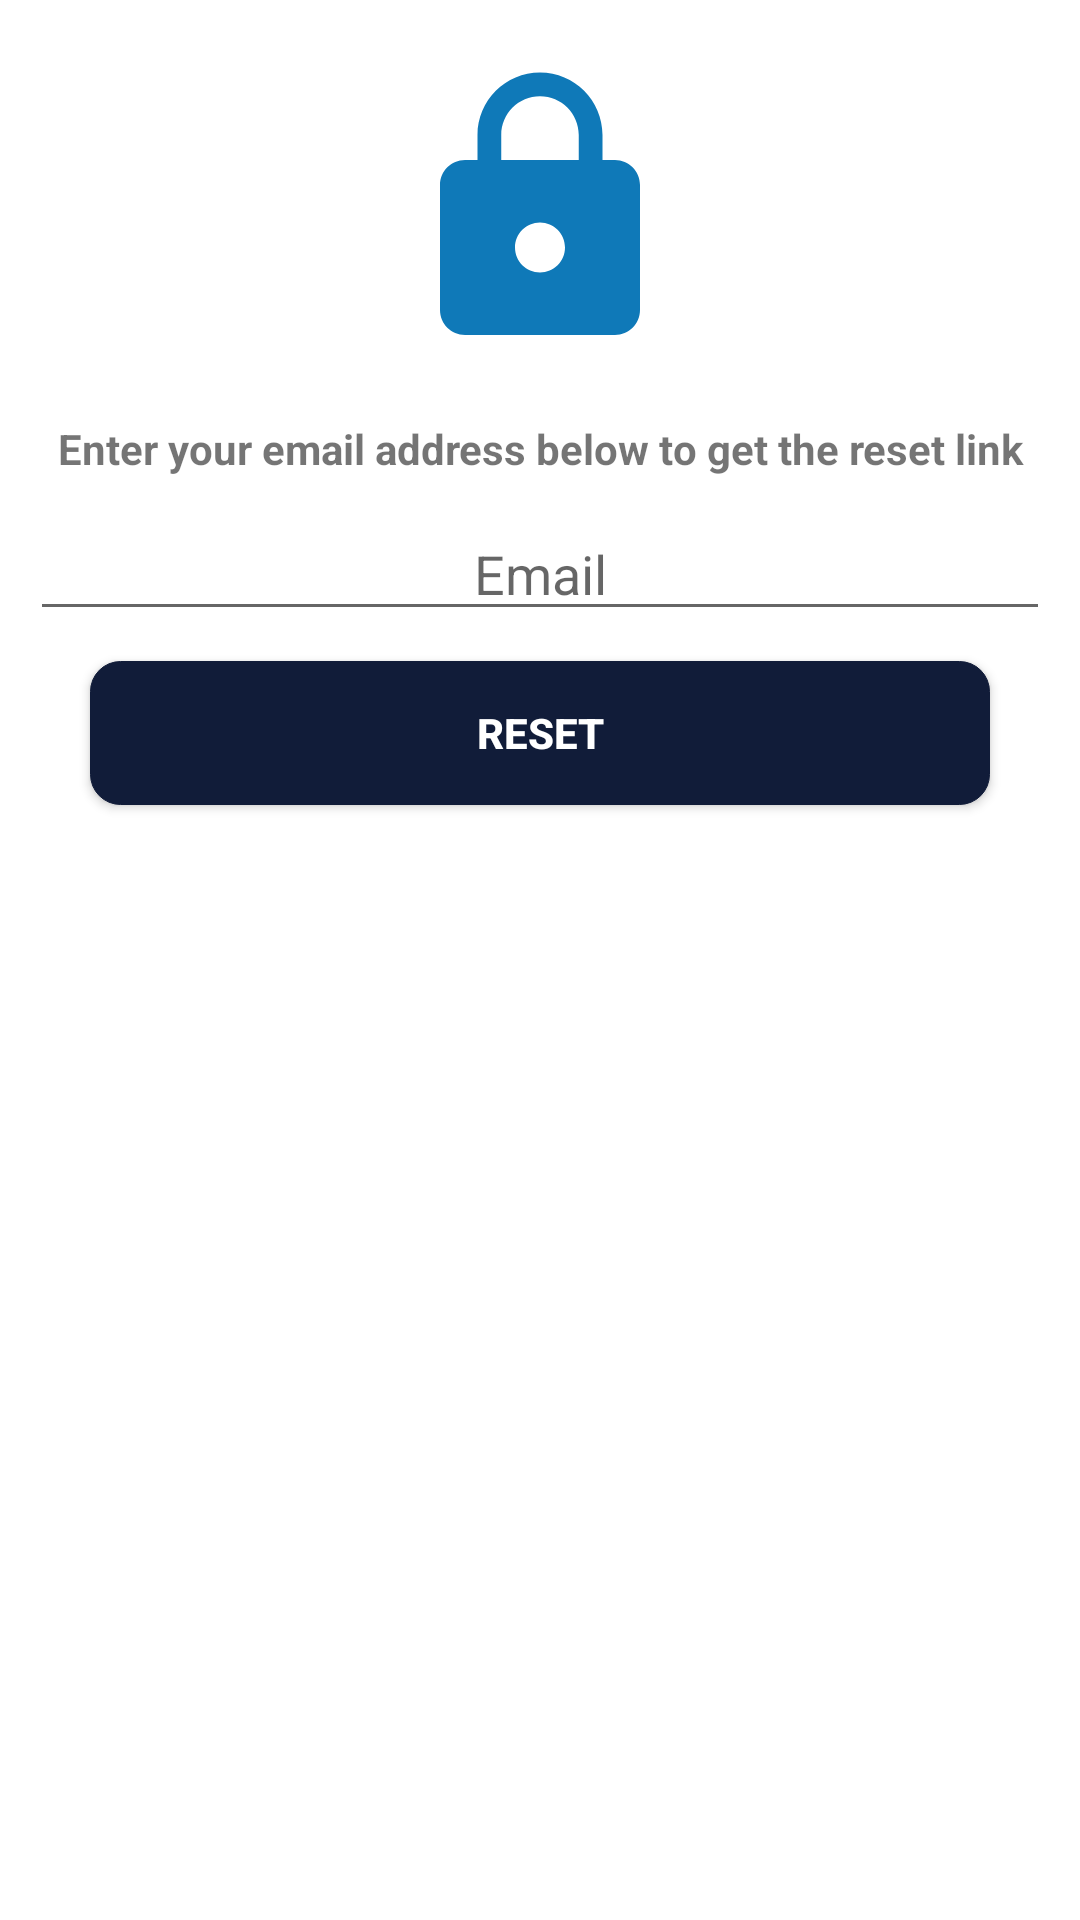

Named icons in this screenshot (1080 × 1920) and their bounding boxes, rect(x1, y1, x2, y2):
password: rect(440, 72, 640, 335)
